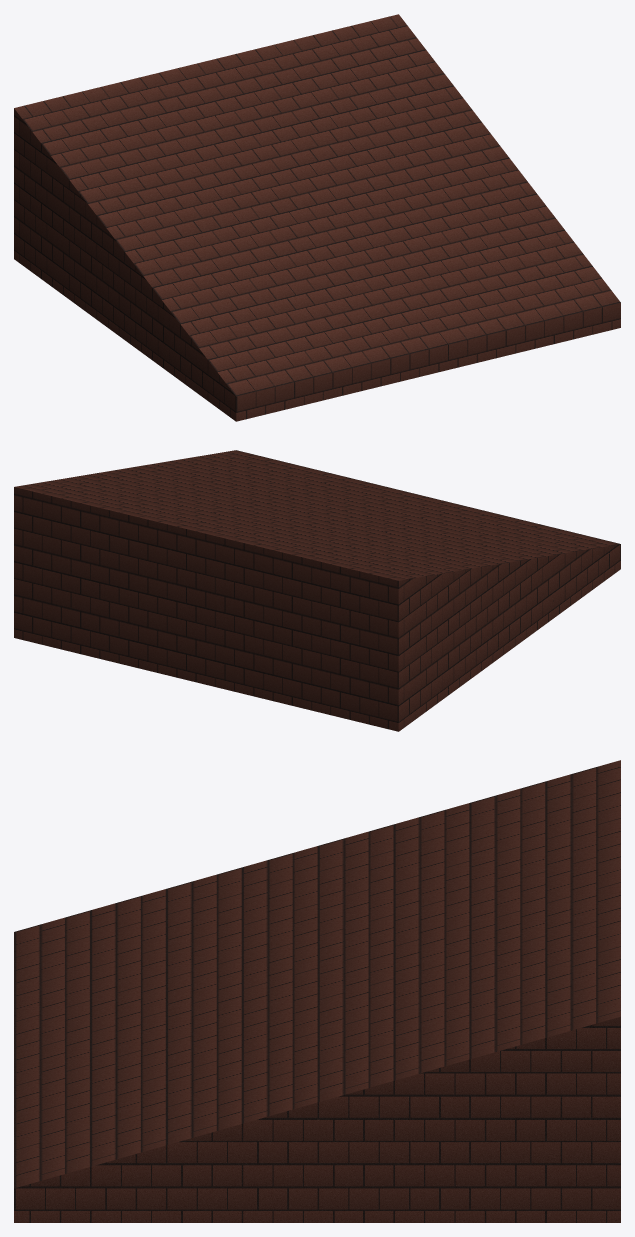
The model's file is estate_roof_slope_5f.glb.
3 views of the same model, one above another, from view 1: azimuth 30°, elevation 25°; view 2: azimuth 150°, elevation 25°; view 3: azimuth 270°, elevation 25° (orthographic). The views are drawn at different scales.
Visible parts, largest first — view 1: wedge; view 2: wedge; view 3: wedge.
Part boxes in pixels (x1,y1,x2,y2): wedge: (14,14,620,421); wedge: (14,450,620,731); wedge: (14,760,620,1222).
Size of the model in its own units: 4 by 1.5 by 4.
1 material, 1 textured.
